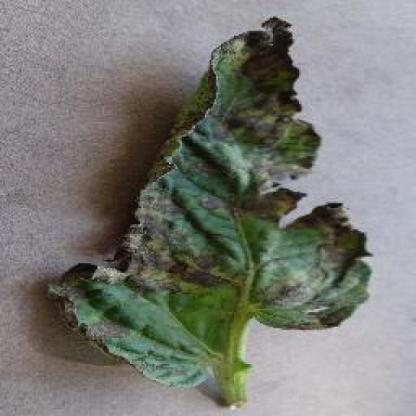Tomato_Blight: (51, 20, 370, 378)
